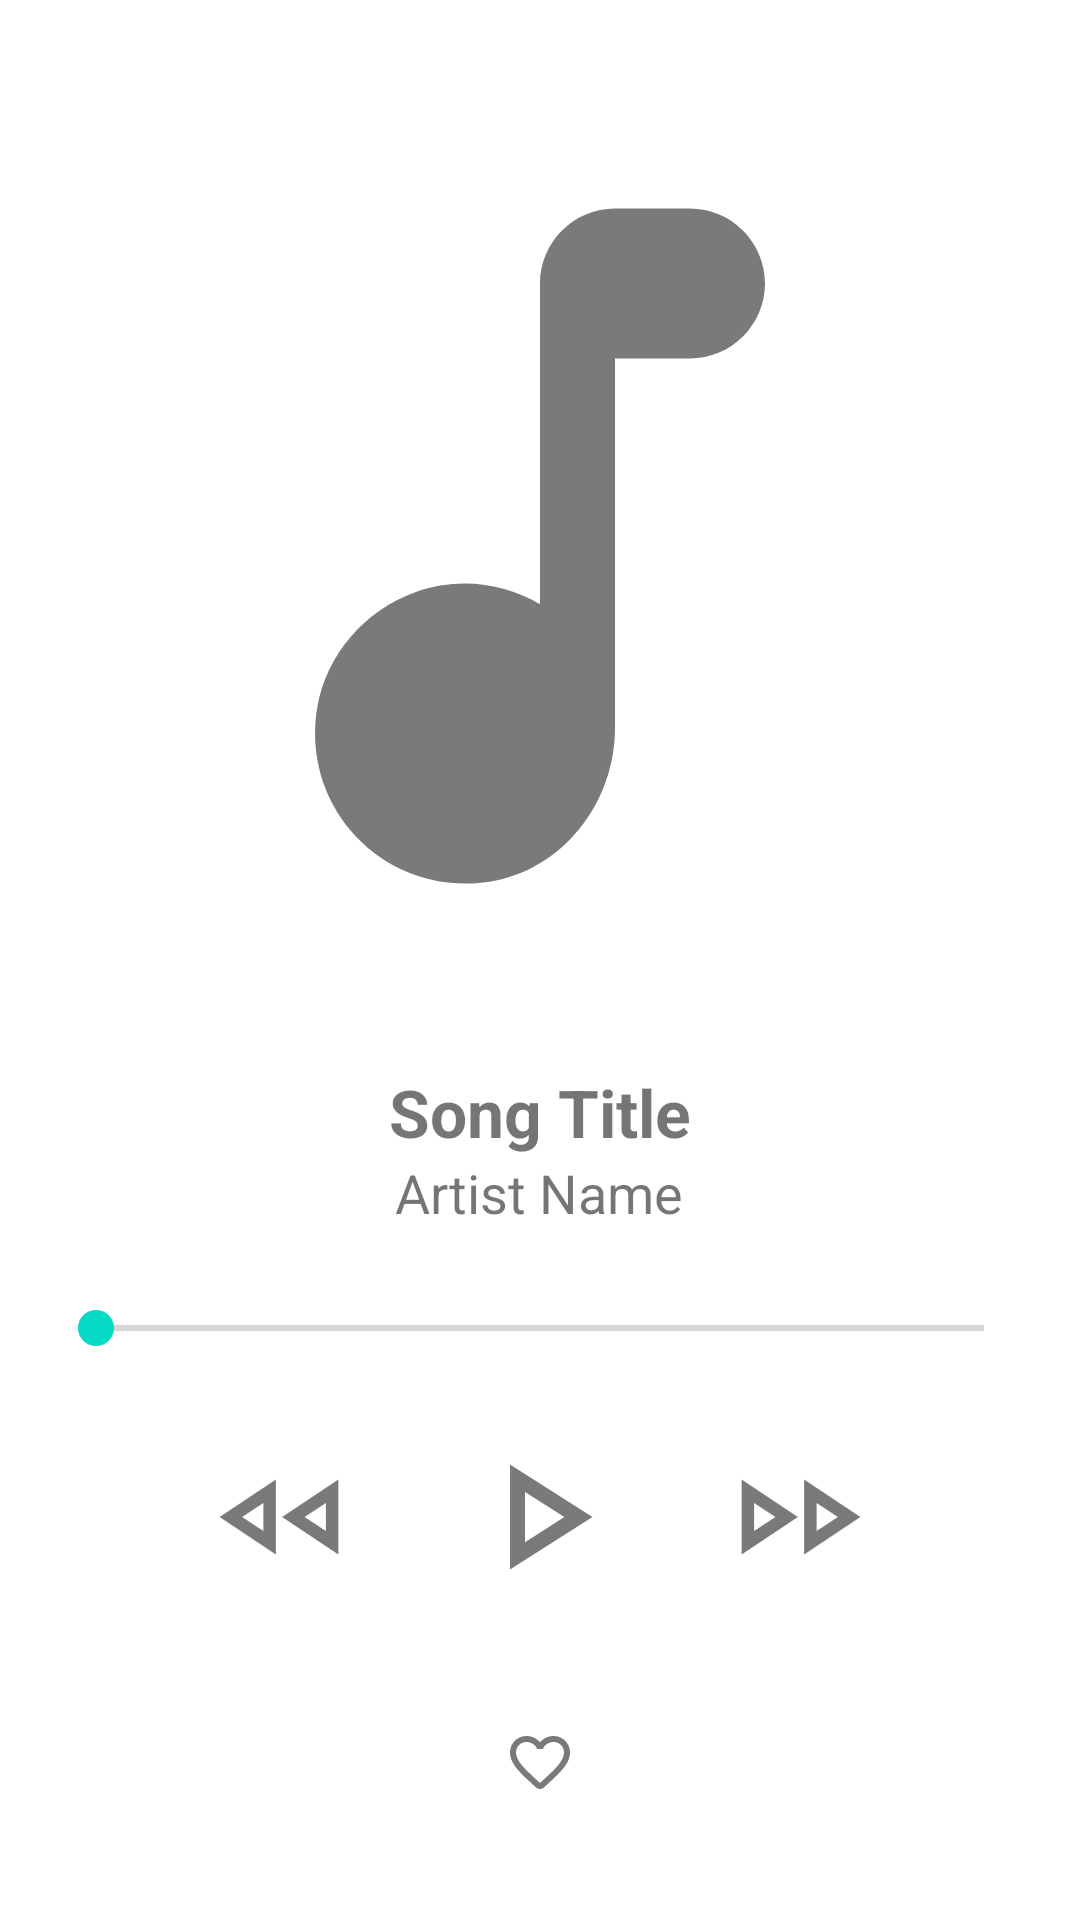

Where icons sit on this 1080w x 1920h app screen, as {"x1": x1, "y1": y1, "x2": x2, "y2": y2}:
Add to Favorites: {"x1": 510, "y1": 1736, "x2": 570, "y2": 1789}
Next Song: {"x1": 741, "y1": 1479, "x2": 860, "y2": 1555}
Play or Pause: {"x1": 510, "y1": 1464, "x2": 592, "y2": 1570}
Previous Song: {"x1": 220, "y1": 1479, "x2": 339, "y2": 1555}
